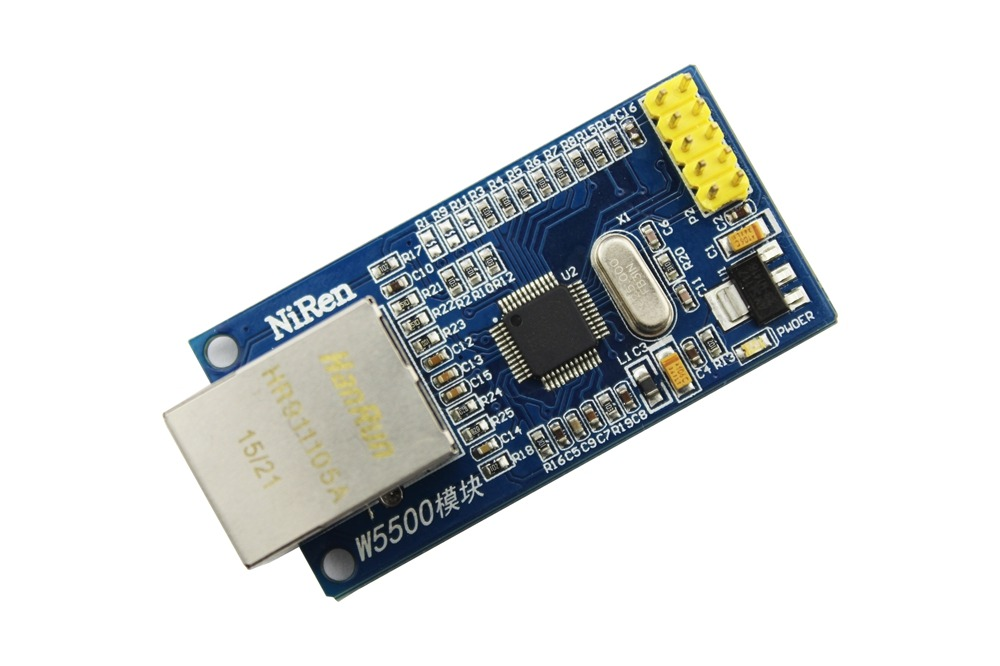Ethernet-W5500: (151, 40, 857, 639)
